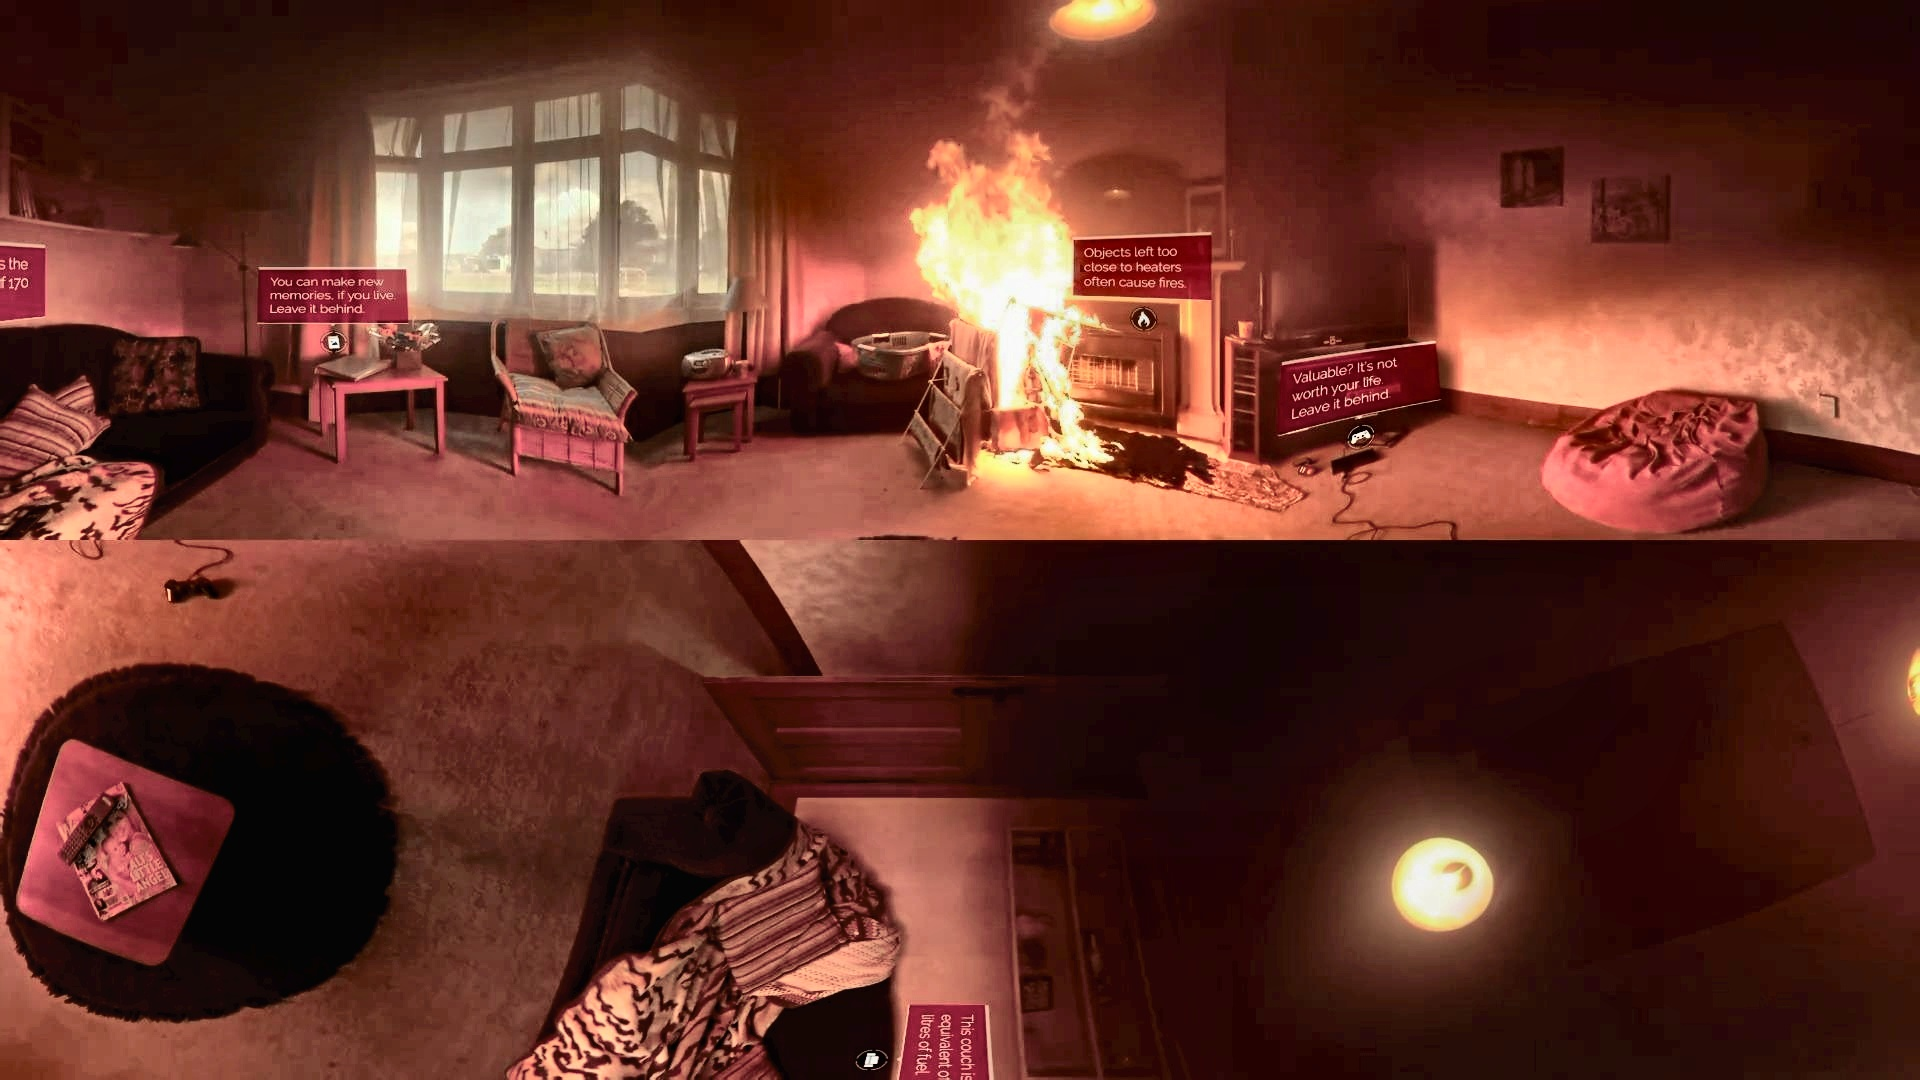fire: (895, 105, 1122, 455)
